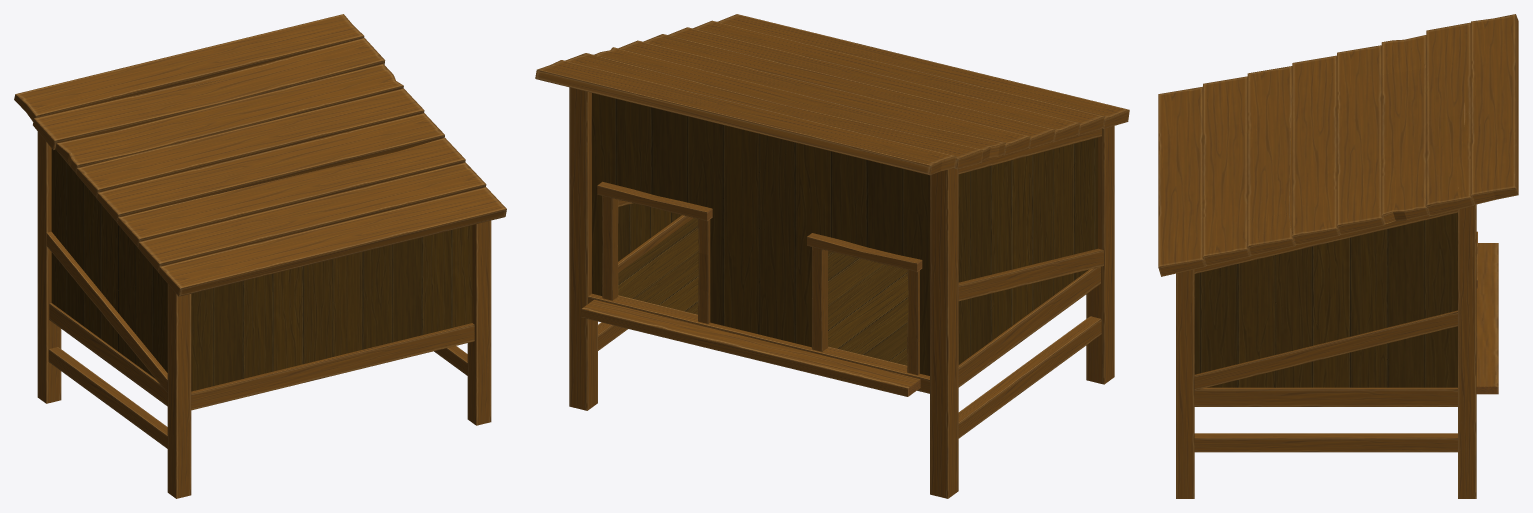
File: SM_Chicken_Coop.fbx
The picture shows the model from 3 angles, left to right: view 1: azimuth 30°, elevation 25°; view 2: azimuth 150°, elevation 25°; view 3: azimuth 270°, elevation 25°; orthographic projection. The views are drawn at different scales.
Visible parts, largest first — view 1: SM_Chicken_Coop_LOD0; view 2: SM_Chicken_Coop_LOD0; view 3: SM_Chicken_Coop_LOD0.
Part boxes in pixels (<box>): SM_Chicken_Coop_LOD0: <box>14,14,506,498</box>; SM_Chicken_Coop_LOD0: <box>535,14,1129,498</box>; SM_Chicken_Coop_LOD0: <box>1158,14,1518,498</box>.
Size of the model in its own units: 264 by 230 by 223.
